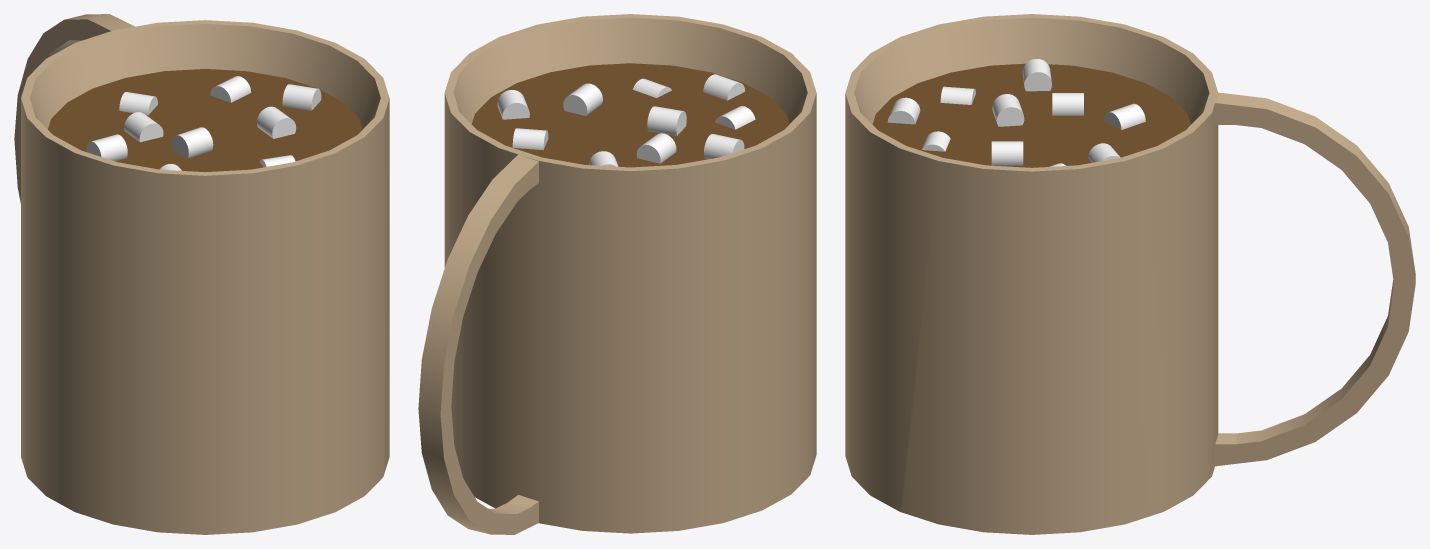
The picture shows the model from 3 angles, left to right: view 1: azimuth 30°, elevation 25°; view 2: azimuth 150°, elevation 25°; view 3: azimuth 270°, elevation 25°; orthographic projection.
Visible parts, largest first — view 1: mesh34_mesh34-geometry_2, mesh34_mesh34-geometry, mesh43_mesh43-geometry, mesh35_mesh35-geometry, mesh42_mesh42-geometry, mesh36_mesh36-geometry, mesh45_mesh45-geometry, mesh38_mesh38-geometry, mesh39_mesh39-geometry; view 2: mesh34_mesh34-geometry_2, mesh34_mesh34-geometry, mesh43_mesh43-geometry, mesh35_mesh35-geometry, mesh36_mesh36-geometry, mesh42_mesh42-geometry, mesh44_mesh44-geometry, mesh45_mesh45-geometry, mesh38_mesh38-geometry, mesh40_mesh40-geometry; view 3: mesh34_mesh34-geometry_2, mesh34_mesh34-geometry, mesh43_mesh43-geometry, mesh45_mesh45-geometry, mesh35_mesh35-geometry, mesh39_mesh39-geometry, mesh36_mesh36-geometry, mesh44_mesh44-geometry.
Part boxes in pixels (left/top/right/bottom): mesh34_mesh34-geometry_2: left=14, top=14, right=389, bottom=534; mesh34_mesh34-geometry: left=48, top=69, right=362, bottom=172; mesh43_mesh43-geometry: left=171, top=127, right=213, bottom=158; mesh35_mesh35-geometry: left=256, top=106, right=296, bottom=138; mesh42_mesh42-geometry: left=282, top=84, right=321, bottom=110; mesh36_mesh36-geometry: left=124, top=112, right=163, bottom=142; mesh45_mesh45-geometry: left=86, top=134, right=127, bottom=161; mesh38_mesh38-geometry: left=210, top=76, right=251, bottom=102; mesh39_mesh39-geometry: left=119, top=92, right=157, bottom=115; mesh34_mesh34-geometry_2: left=418, top=14, right=816, bottom=534; mesh34_mesh34-geometry: left=471, top=63, right=789, bottom=167; mesh43_mesh43-geometry: left=647, top=106, right=686, bottom=135; mesh35_mesh35-geometry: left=563, top=83, right=602, bottom=115; mesh36_mesh36-geometry: left=636, top=133, right=676, bottom=163; mesh42_mesh42-geometry: left=497, top=90, right=529, bottom=119; mesh44_mesh44-geometry: left=703, top=74, right=744, bottom=100; mesh45_mesh45-geometry: left=704, top=134, right=744, bottom=158; mesh38_mesh38-geometry: left=512, top=128, right=548, bottom=150; mesh40_mesh40-geometry: left=715, top=106, right=755, bottom=129; mesh34_mesh34-geometry_2: left=845, top=14, right=1415, bottom=534; mesh34_mesh34-geometry: left=872, top=63, right=1190, bottom=167; mesh43_mesh43-geometry: left=992, top=94, right=1024, bottom=126; mesh45_mesh45-geometry: left=1022, top=59, right=1051, bottom=91; mesh35_mesh35-geometry: left=991, top=141, right=1023, bottom=165; mesh39_mesh39-geometry: left=1104, top=103, right=1145, bottom=129; mesh36_mesh36-geometry: left=1052, top=93, right=1083, bottom=115; mesh44_mesh44-geometry: left=887, top=97, right=920, bottom=124.
Bounding box in the file's own units: 0.4717 × 0.5071 × 0.7213.
